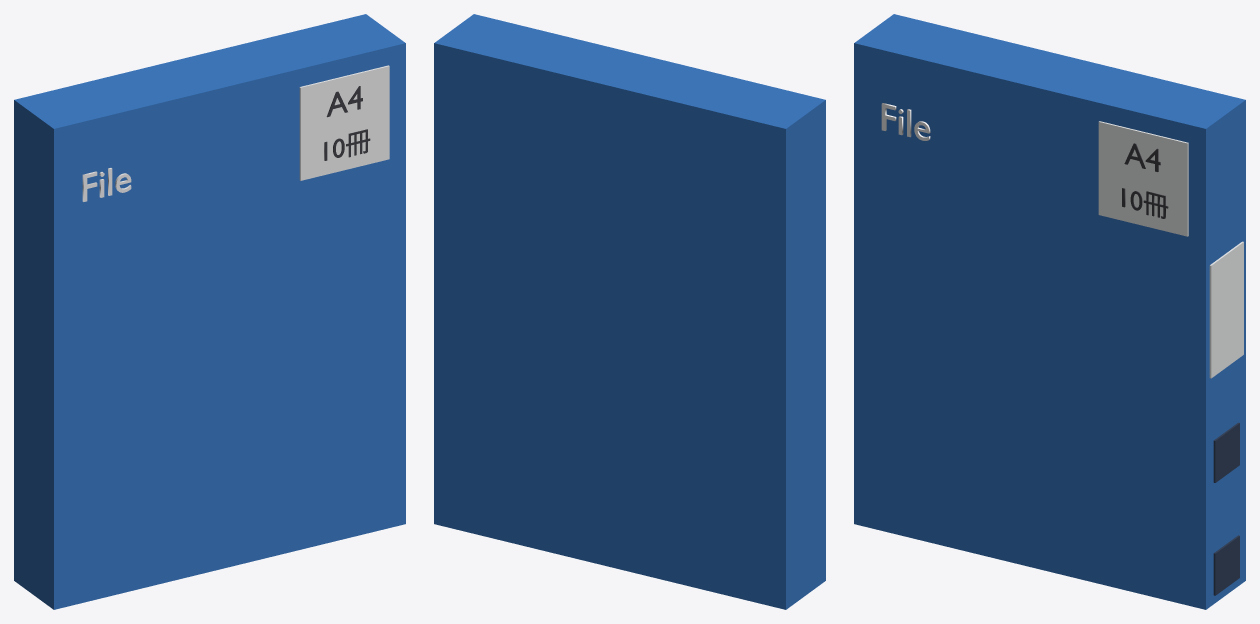
The picture shows the model from 3 angles, left to right: view 1: azimuth 30°, elevation 25°; view 2: azimuth 150°, elevation 25°; view 3: azimuth 330°, elevation 25°; orthographic projection.
Visible parts, largest first — view 1: Binder_Body, Front_InfoBox, Front_Brand_Text, Front_Info_Count; view 2: Binder_Body; view 3: Binder_Body, Front_InfoBox, Spine_LabelWindow, Spine_RingSlot_0, Spine_RingSlot_1, Front_Brand_Text, Front_Info_Count.
Boxes of the visible parts, bbox=[...] form: Binder_Body: bbox=[14, 14, 405, 609]; Front_InfoBox: bbox=[299, 65, 389, 180]; Front_Brand_Text: bbox=[82, 168, 131, 201]; Front_Info_Count: bbox=[324, 129, 370, 160]; Binder_Body: bbox=[434, 14, 825, 609]; Binder_Body: bbox=[854, 14, 1245, 609]; Front_InfoBox: bbox=[1098, 121, 1188, 236]; Spine_LabelWindow: bbox=[1209, 241, 1243, 378]; Spine_RingSlot_0: bbox=[1213, 422, 1239, 482]; Spine_RingSlot_1: bbox=[1213, 535, 1239, 595]; Front_Brand_Text: bbox=[881, 103, 930, 140]; Front_Info_Count: bbox=[1122, 188, 1168, 218].
Bounding box in the file's own units: 0.2463 × 0.32 × 0.0498.
